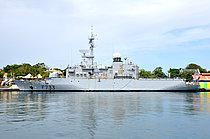MIL_Ship: (12, 24, 202, 93)
